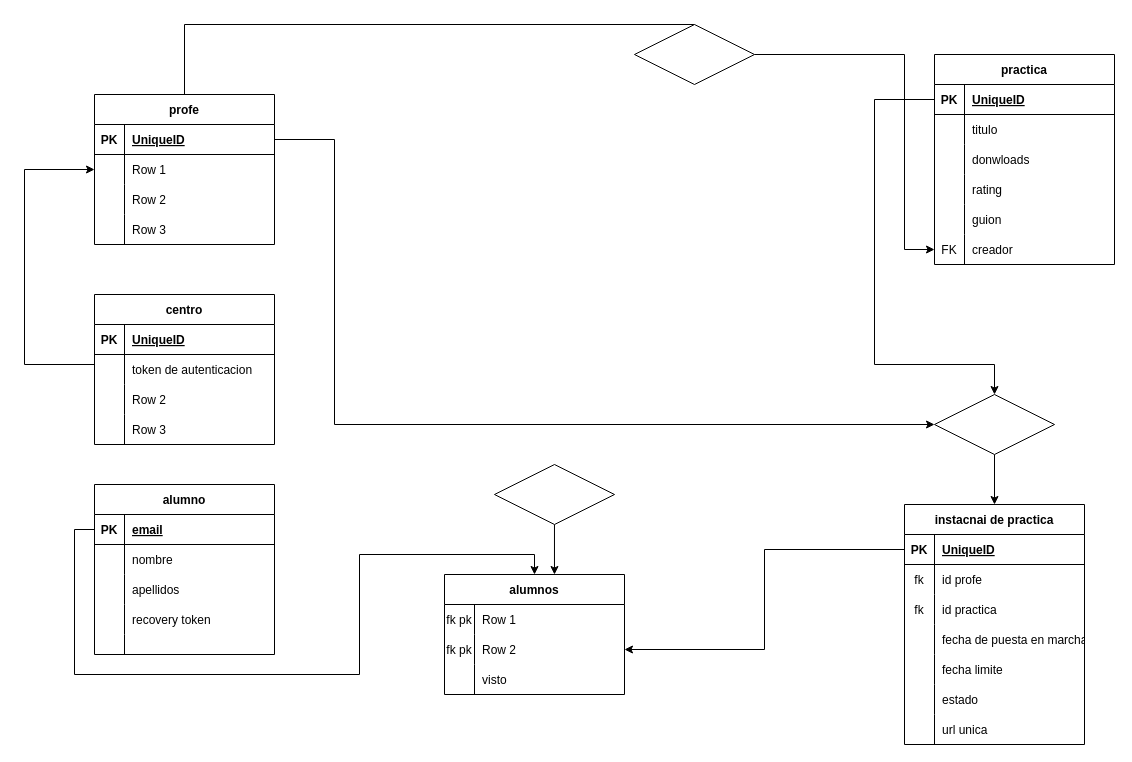
Image size: 1132x762. Some labels were removed from this diagram. Here are the shapes that lost their labels. From the top down, the centre of each, then its label:
At [694,54]: "crea 1,m".
At [994,424]: "instancia m,n".
At [554,494]: "Relationship".
